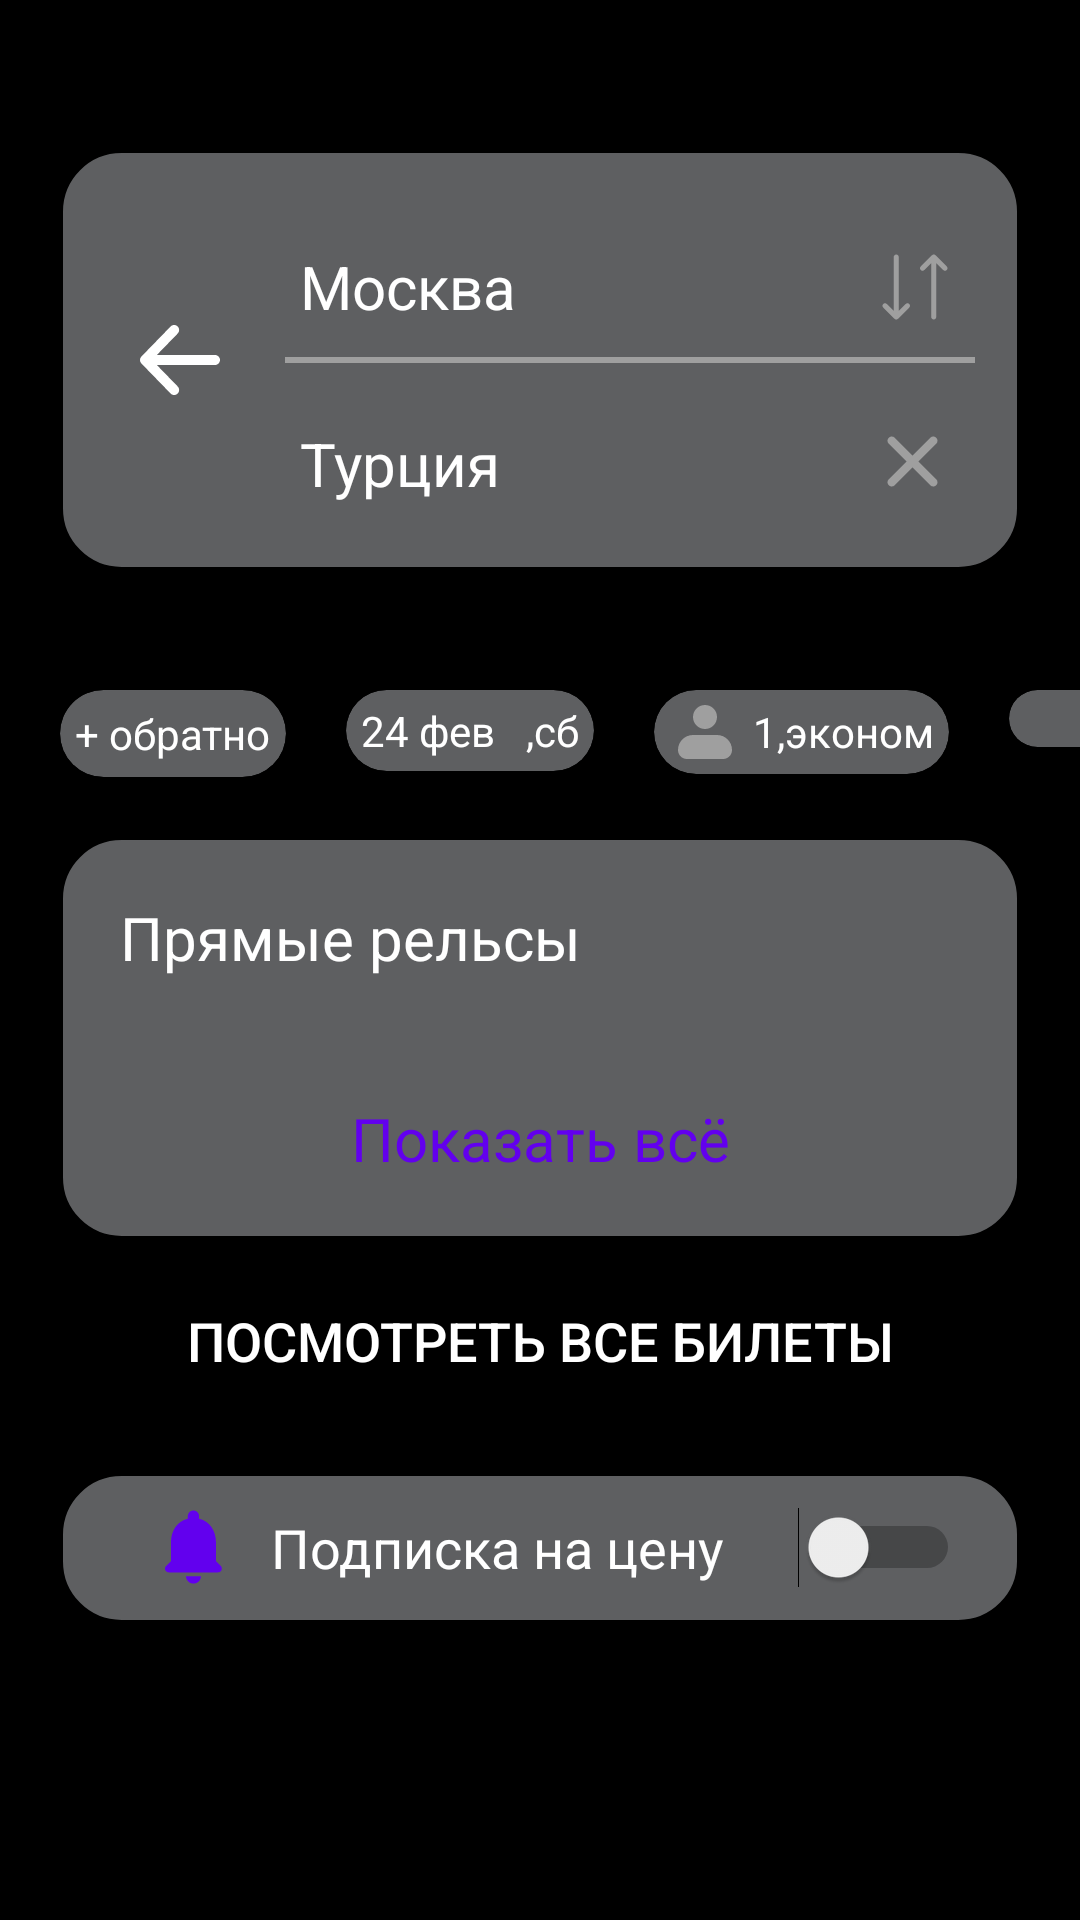

Point at icon controls on the screen. Image size 1080w x 1920h, points as (x,y).
back: (180,360)
delete: (912,461)
exchange: (915,287)
profile: (705,732)
